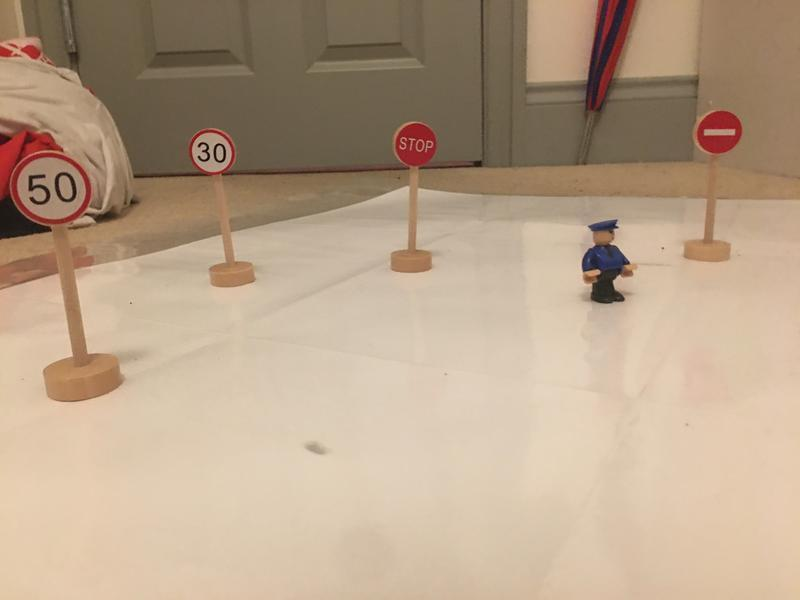Traffic_Sign_30: (190, 129, 235, 172)
Traffic_Sign_50: (11, 150, 91, 226)
Traffic_Sign_No_Entry: (698, 110, 741, 153)
Traffic_Sign_Stop: (396, 121, 436, 168)
person: (580, 220, 638, 308)
